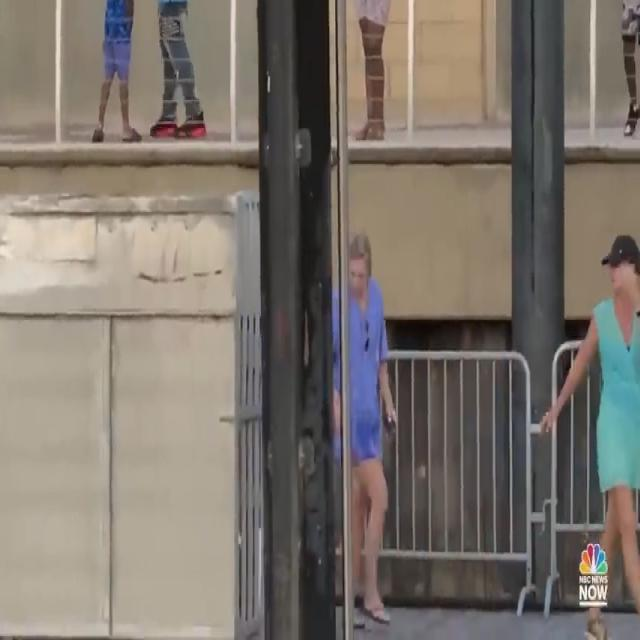non-fight: (539, 228, 640, 640), (328, 230, 402, 635)
